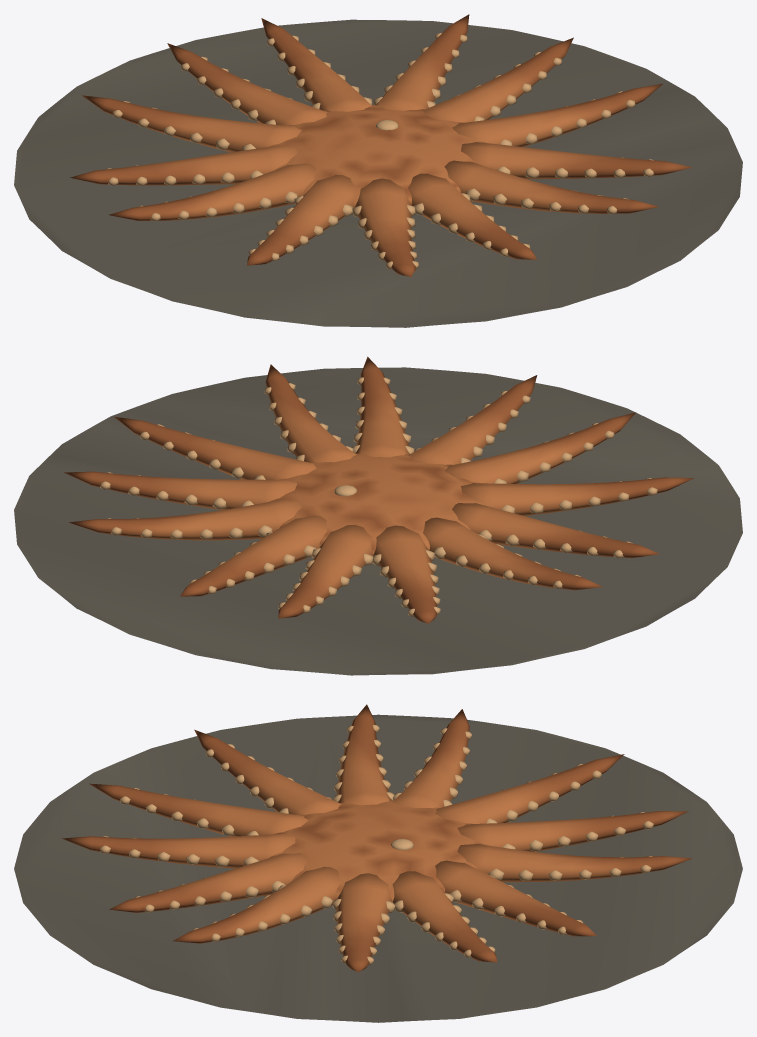
The model's file is LepidasterGrayi.fbx.
3 views of the same model, one above another, from view 1: azimuth 30°, elevation 25°; view 2: azimuth 150°, elevation 25°; view 3: azimuth 270°, elevation 25° (orthographic).
Parts seen in each view (by area): view 1: LepidasterGrayi; view 2: LepidasterGrayi; view 3: LepidasterGrayi.
Boxes of the visible parts, x1,y1,x2,y2 form: LepidasterGrayi: (14, 14, 742, 327); LepidasterGrayi: (14, 356, 742, 675); LepidasterGrayi: (14, 704, 742, 1022).
Bounding box in the file's own units: 1.84 × 0.1205 × 1.84.
